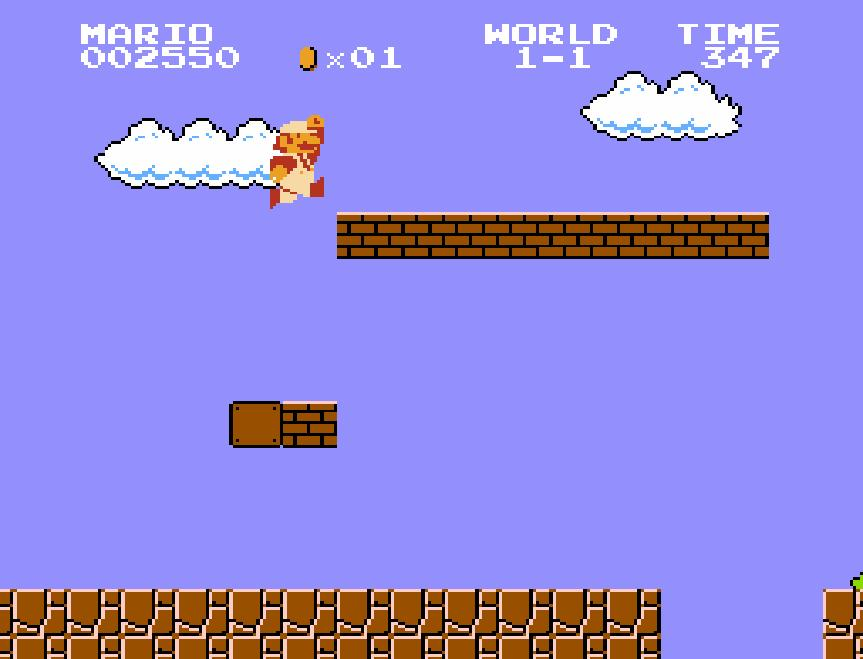fire_mario: (267, 112, 325, 210)
